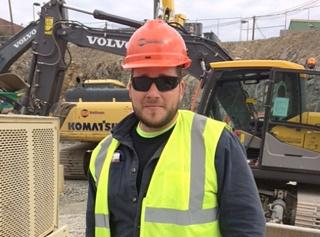helmet: (122, 21, 192, 71)
